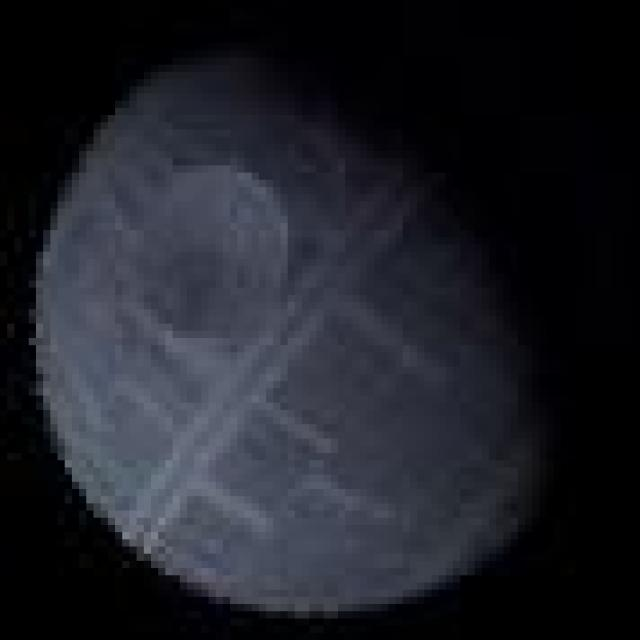Death Star: (21, 43, 546, 619)
